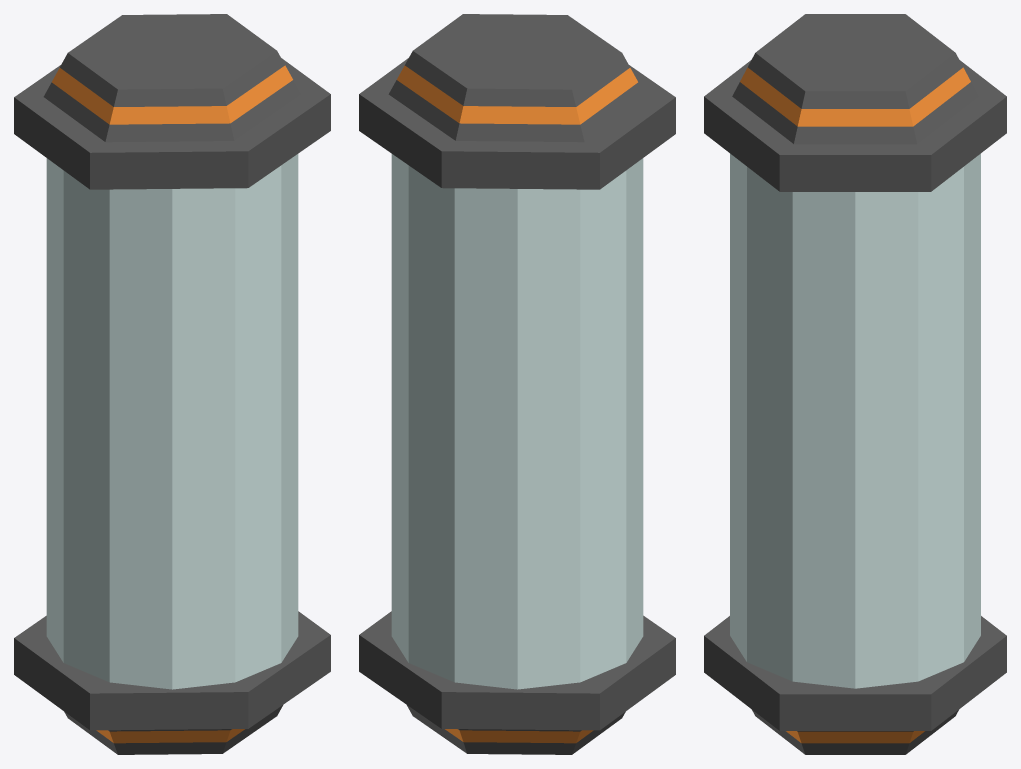
File: model-collectable-health-tank-medium.fbx
3 renders of one model, left to right at view 1: azimuth 30°, elevation 25°; view 2: azimuth 150°, elevation 25°; view 3: azimuth 270°, elevation 25°, orthographic.
Parts seen in each view (by area): view 1: mesh; view 2: mesh; view 3: mesh.
Boxes of the visible parts, x1=… form: mesh: x1=14, y1=14, x2=330, y2=754; mesh: x1=359, y1=14, x2=675, y2=754; mesh: x1=704, y1=14, x2=1006, y2=754.
Size of the model in its own units: 0.3001 by 0.3279 by 0.7926.
